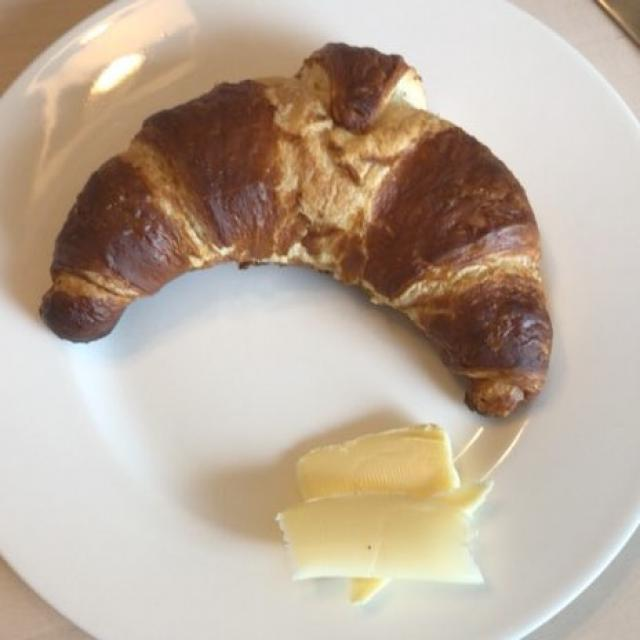butter: (255, 419, 478, 595)
